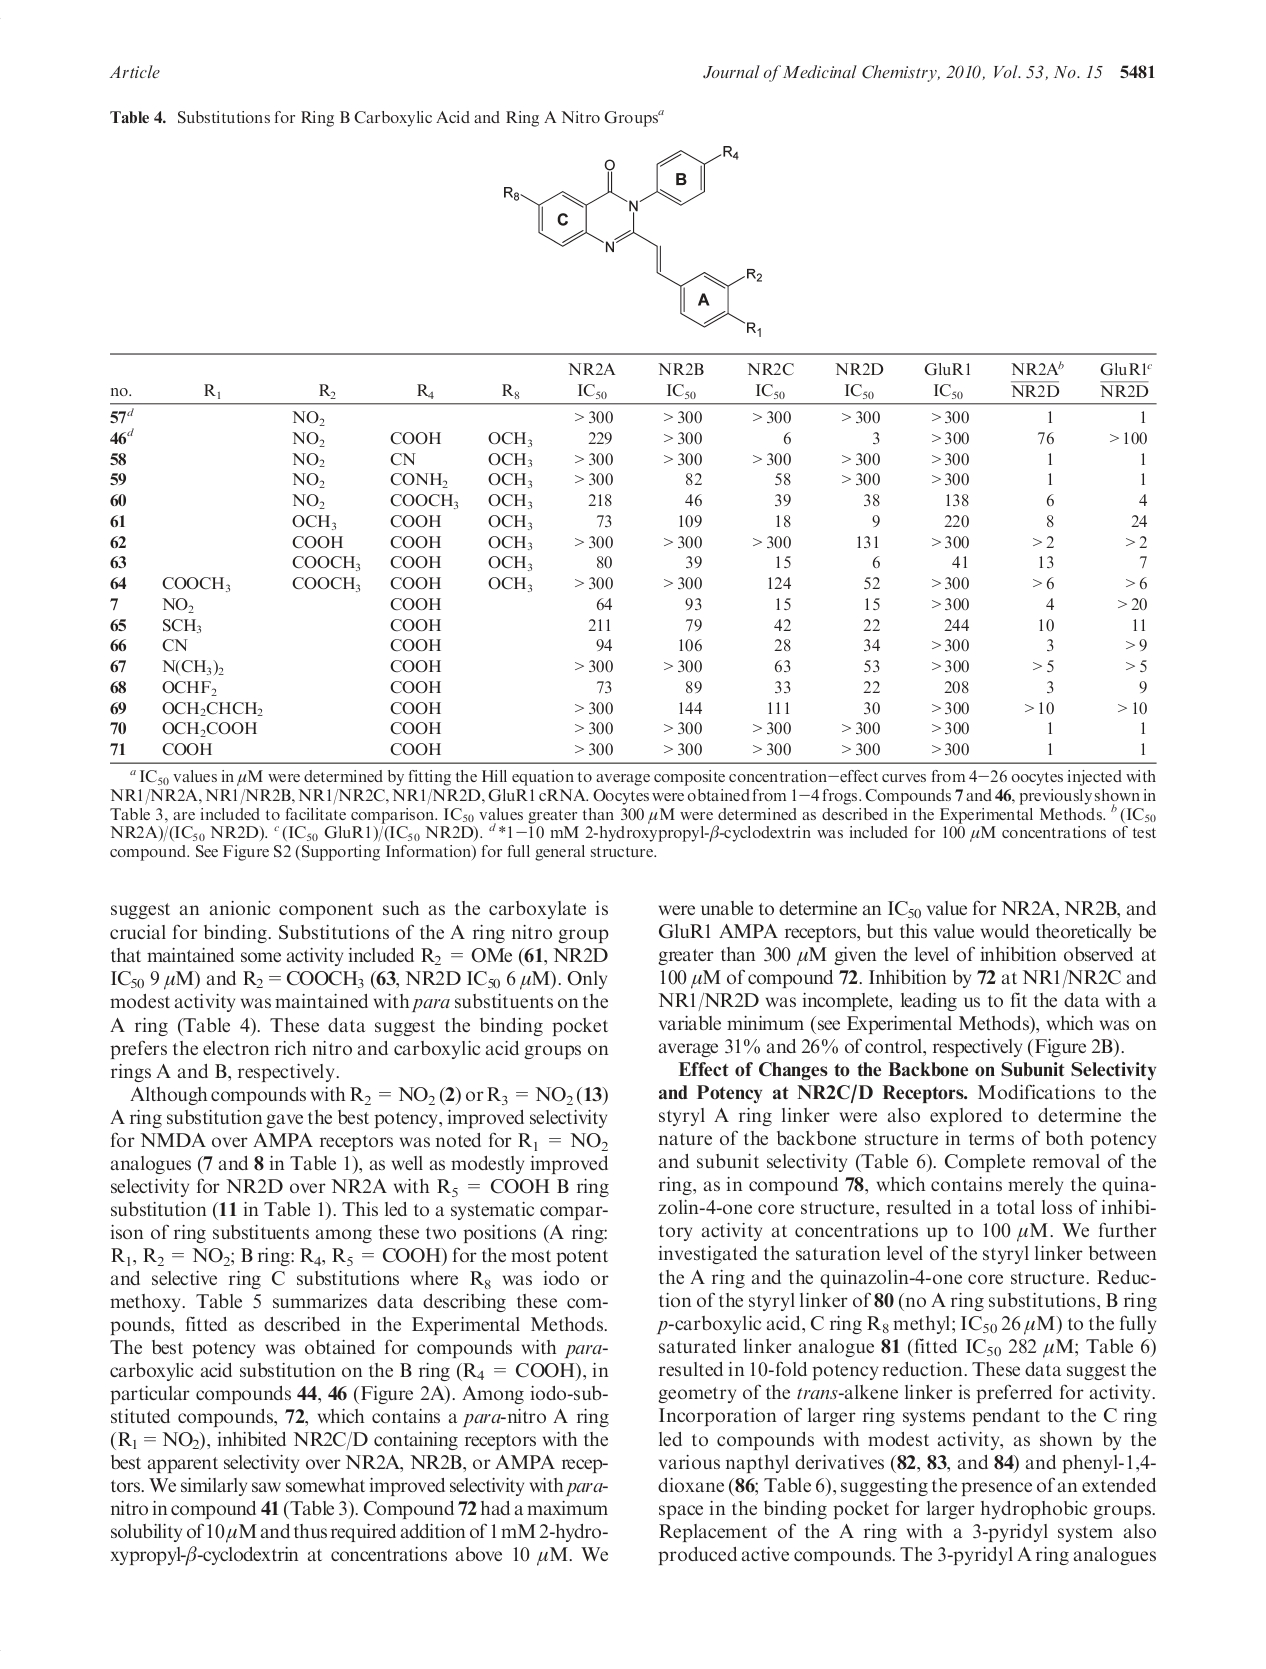exist_molecular: (496, 136, 770, 339)
